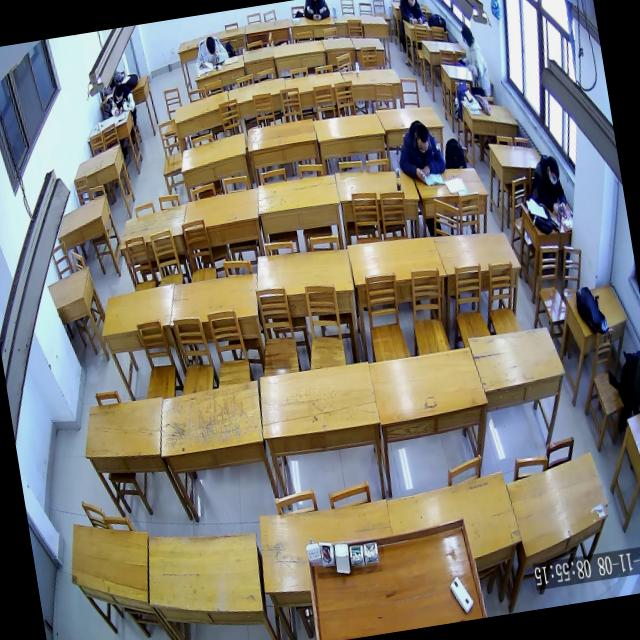bow: (393, 116, 448, 186), (194, 33, 230, 70), (107, 81, 137, 118)
down: (413, 123, 432, 154), (546, 154, 562, 186), (460, 24, 475, 48), (113, 84, 125, 104), (205, 36, 217, 56), (405, 0, 416, 7)
sit: (453, 24, 492, 100), (528, 152, 568, 218), (397, 0, 425, 27)
